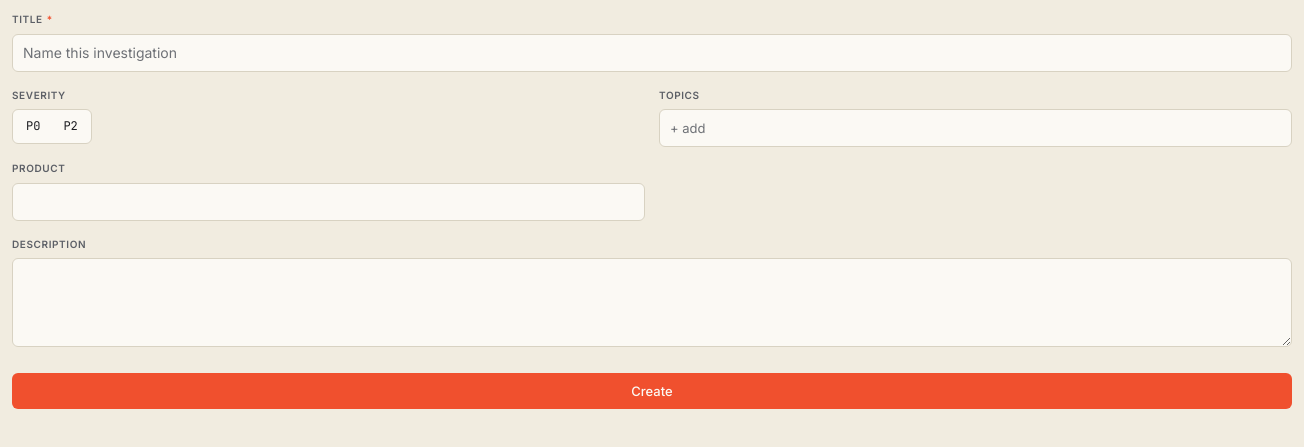
Test case: ItemForm › blocks submit with an empty title and shows a required message (no silent no-op)
The image size is (1304, 447).
Click the button "Create" at coordinates (652, 391), box [12,373,1292,409]
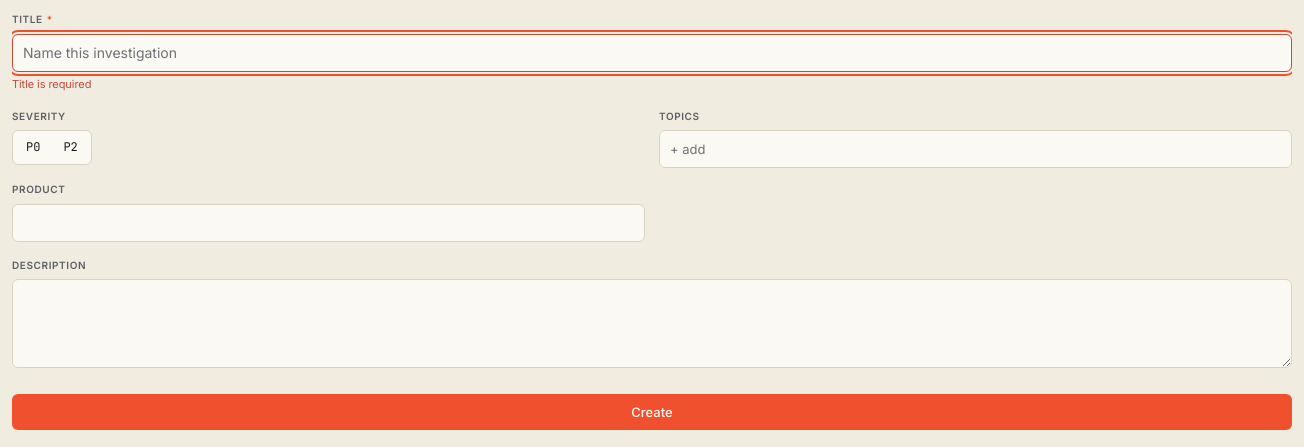
Result: the text "Title is required" is shown at [12,76,91,90]
